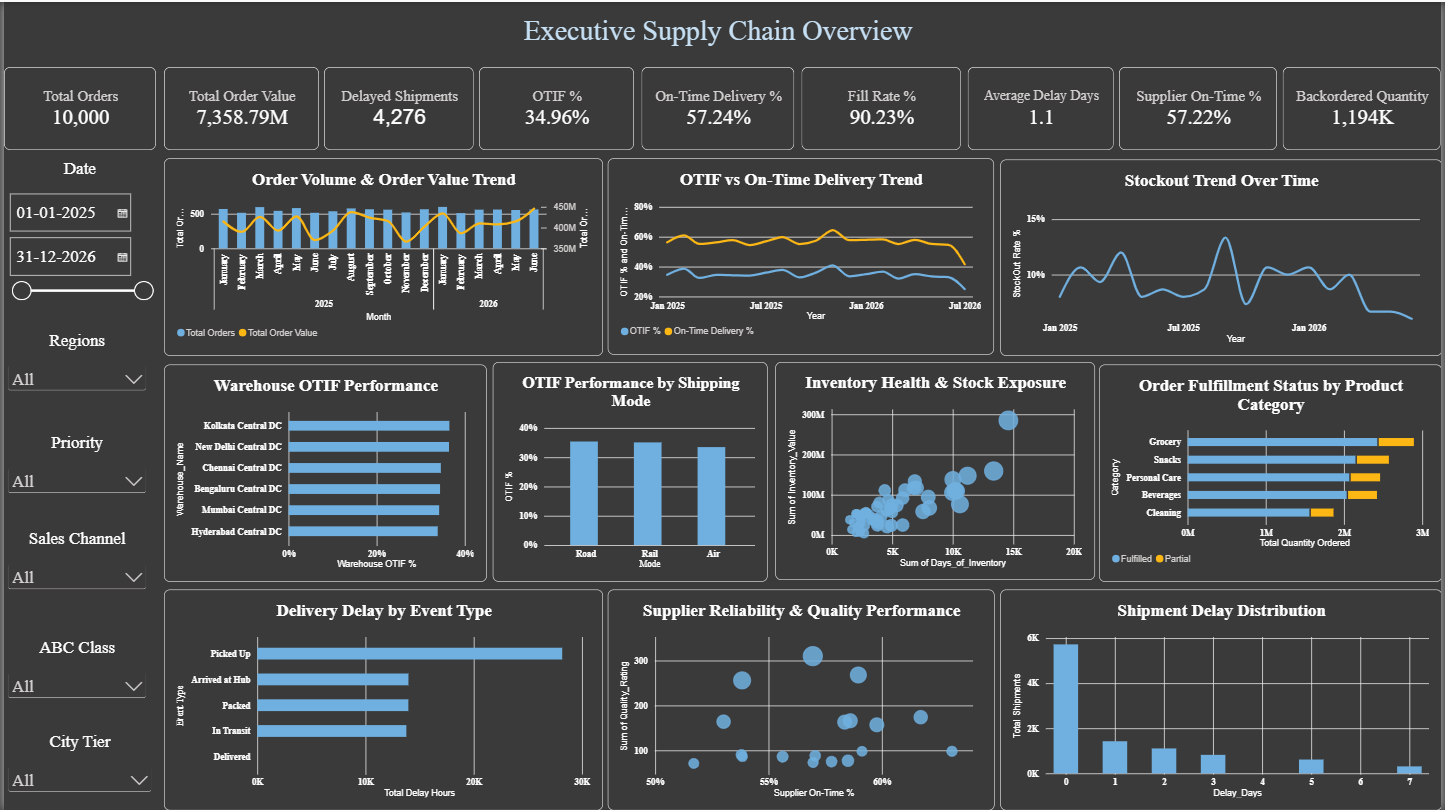

This screenshot's page, from the dashboard's own definition file:
{"tool":"powerbi","page":{"name":"Executive Supply Chain","canvas":[1920,1080],"ordinal":0},"visuals":[{"type":"textbox","box":[690,16,528.5,50.7],"z":0},{"type":"cardVisual","fields":{"Data":["Measures (3).Total Orders"]},"box":[0,87.6,203.5,111.2],"z":1000},{"type":"cardVisual","fields":{"Data":["Measures (3).Total Order Value"]},"box":[213.5,87.6,207.1,111.2],"z":2000},{"type":"cardVisual","fields":{"Data":["Measures (3).Delayed Shipments"]},"box":[428.2,87.6,200,111.2],"z":3000},{"type":"cardVisual","fields":{"Data":["Measures (3).OTIF %"]},"box":[635.3,87.6,207.1,111.2],"z":4000},{"type":"cardVisual","fields":{"Data":["Measures (3).On-Time Delivery %"]},"box":[851.2,87.6,204.7,111.2],"z":5000},{"type":"cardVisual","fields":{"Data":["Measures (3).Fill Rate %"]},"box":[1064.7,87.6,213.5,111.2],"z":6000},{"type":"cardVisual","fields":{"Data":["Measures (3).Average Delay Days"]},"box":[1287.1,87.6,195.9,111.2],"z":7000},{"type":"cardVisual","fields":{"Data":["Measures (3).Supplier On-Time %"]},"box":[1490,87.6,211.2,111.2],"z":8000},{"type":"slicer","title":"Date","fields":{"Values":["Calendar9.Date"]},"box":[0,210,202.7,210],"z":9000},{"type":"slicer","title":"Regions","fields":{"Values":["Orders5.Region"]},"box":[0,439.8,195.5,114],"z":10000},{"type":"slicer","title":"Priority","fields":{"Values":["Orders5.Priority"]},"box":[0,575.6,195.5,103.2],"z":11000},{"type":"scatterChart","title":"Supplier Reliability & Quality Performance","fields":{"X":["Measures (3).Supplier On-Time %"],"Y":["Sum(Suppliers3.Quality_Rating)"],"Size":["Measures (3).Total PO Value"],"Category":["Suppliers3.Supplier_Name"]},"box":[806.7,785,516.7,295],"z":12000},{"type":"lineClusteredColumnComboChart","title":"Order Volume & Order Value Trend","fields":{"Category":["Calendar9.Date.Variation.Date Hierarchy.Year","Calendar9.Date.Variation.Date Hierarchy.Month"],"Y":["Measures (3).Total Orders"],"Y2":["Measures (3).Total Order Value"]},"box":[213.7,208.7,586.1,263.8],"z":13000},{"type":"lineChart","title":"OTIF vs On-Time Delivery Trend","fields":{"Y":["Measures (3).OTIF %","Measures (3).On-Time Delivery %"],"Category":["Calendar9.Date.Variation.Date Hierarchy.Year","Calendar9.Date.Variation.Date Hierarchy.Month"]},"box":[806.5,208.7,516,262.2],"z":14000},{"type":"clusteredColumnChart","title":"Shipment Delay Distribution","fields":{"Category":["Shipments7.Delay_Days"],"Y":["Measures (3).Total Shipments"]},"box":[1330,785,590,295],"z":15000},{"type":"columnChart","title":"OTIF Performance by Shipping Mode","fields":{"Category":["Shipments7.Shipping_Mode"],"Y":["Measures (3).OTIF %"]},"box":[653.4,481.4,367.4,293.2],"z":16000},{"type":"clusteredBarChart","title":"Warehouse OTIF Performance","fields":{"Category":["Warehouses4.Warehouse_Name"],"Y":["Measures (3).Warehouse OTIF %"]},"box":[213.3,484.4,431.1,290],"z":17000},{"type":"scatterChart","title":"Inventory Health & Stock Exposure","fields":{"X":["Sum(Inventory6.Days_of_Inventory)"],"Y":["Sum(Inventory6.Inventory_Value)"],"Size":["Sum(Inventory6.Closing_Stock)"],"Category":["Products2.Product_Name"]},"box":[1030.2,480.9,427.5,293.9],"z":18000},{"type":"barChart","title":"Order Fulfillment Status by Product Category","fields":{"Category":["Products2.Category"],"Series":["OrderItems.Fulfillment_Status"],"Y":["Measures (3).Total Quantity Ordered"]},"box":[1462.7,480.9,457.5,293.9],"z":19000},{"type":"barChart","title":"Delivery Delay by Event Type","fields":{"Category":["DeliveryEvents.Event_Type"],"Y":["Measures (3).Total Delay Hours"]},"box":[213.3,785,586.7,295],"z":20000},{"type":"lineChart","title":"Stockout Trend Over Time","fields":{"Category":["Calendar9.Date.Variation.Date Hierarchy.Year","Calendar9.Date.Variation.Date Hierarchy.Month"],"Y":["Measures (3).StockOut Rate %"]},"box":[1330.8,210.4,590,262.4],"z":21000},{"type":"cardVisual","fields":{"Data":["Measures (3).Backordered Quantity"]},"box":[1708.2,87.6,211.8,111.2],"z":22000},{"type":"slicer","title":"Sales Channel","fields":{"Values":["Orders5.Sales_Channel"]},"box":[0,704.1,195.5,110.4],"z":23000},{"type":"slicer","title":"ABC Class","fields":{"Values":["Products2.ABC_Class"]},"box":[0,850.7,195.5,106.8],"z":24000},{"type":"slicer","title":"City Tier","fields":{"Values":["Customers1.City_Tier"]},"box":[0,975,202.7,105],"z":25000}]}

Visuals, with their boxes in screenshot pixels (x1, y1, x2, y2), scaled from the page's 1920x1080 canvas onto the 1445x810 screenshot:
textbox: bbox=(519, 12, 917, 50)
cardVisual - Measures (3).Total Orders: bbox=(0, 66, 153, 149)
cardVisual - Measures (3).Total Order Value: bbox=(161, 66, 317, 149)
cardVisual - Measures (3).Delayed Shipments: bbox=(322, 66, 473, 149)
cardVisual - Measures (3).OTIF %: bbox=(478, 66, 634, 149)
cardVisual - Measures (3).On-Time Delivery %: bbox=(641, 66, 795, 149)
cardVisual - Measures (3).Fill Rate %: bbox=(801, 66, 962, 149)
cardVisual - Measures (3).Average Delay Days: bbox=(969, 66, 1116, 149)
cardVisual - Measures (3).Supplier On-Time %: bbox=(1121, 66, 1280, 149)
"Date" slicer: bbox=(0, 158, 153, 315)
"Regions" slicer: bbox=(0, 330, 147, 415)
"Priority" slicer: bbox=(0, 432, 147, 509)
"Supplier Reliability & Quality Performance" scatterChart: bbox=(607, 589, 996, 809)
"Order Volume & Order Value Trend" lineClusteredColumnComboChart: bbox=(161, 157, 602, 354)
"OTIF vs On-Time Delivery Trend" lineChart: bbox=(607, 157, 995, 353)
"Shipment Delay Distribution" clusteredColumnChart: bbox=(1001, 589, 1444, 809)
"OTIF Performance by Shipping Mode" columnChart: bbox=(492, 361, 768, 581)
"Warehouse OTIF Performance" clusteredBarChart: bbox=(161, 363, 485, 581)
"Inventory Health & Stock Exposure" scatterChart: bbox=(775, 361, 1097, 581)
"Order Fulfillment Status by Product Category" barChart: bbox=(1101, 361, 1444, 581)
"Delivery Delay by Event Type" barChart: bbox=(161, 589, 602, 809)
"Stockout Trend Over Time" lineChart: bbox=(1002, 158, 1444, 355)
cardVisual - Measures (3).Backordered Quantity: bbox=(1286, 66, 1444, 149)
"Sales Channel" slicer: bbox=(0, 528, 147, 611)
"ABC Class" slicer: bbox=(0, 638, 147, 718)
"City Tier" slicer: bbox=(0, 731, 153, 809)
